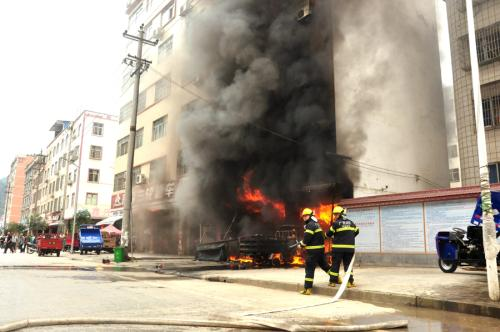fire: (231, 191, 333, 271)
smoke: (176, 5, 373, 180)
